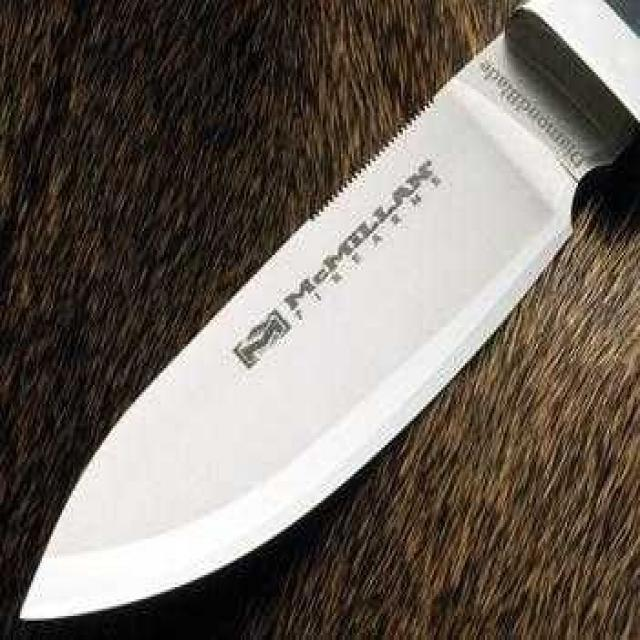knife: (13, 0, 640, 628)
